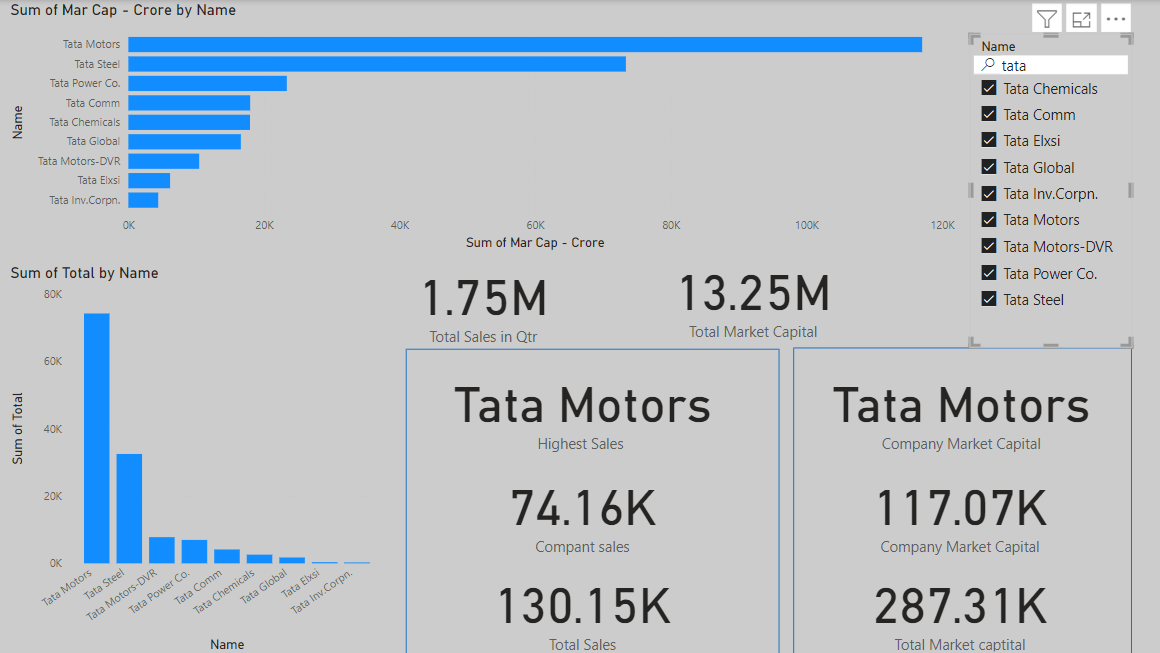

The page's visual inventory and layout, read from the dashboard file:
{"tool":"powerbi","page":{"name":"Page 1","canvas":[1280,720],"ordinal":0},"visuals":[{"type":"shape","box":[874.1,381.5,371.9,338.9],"z":0},{"type":"barChart","fields":{"Category":["Financial Analytics data.Name"],"Y":["Sum(Financial Analytics data.Mar Cap - Crore)"]},"box":[9.6,0,1047,279.9],"z":1000},{"type":"columnChart","fields":{"Category":["Financial Analytics data.Name"],"Y":["Sum(Financial Analytics data.Total)"]},"box":[9.6,289.5,419.9,430.9],"z":2000},{"type":"slicer","fields":{"Values":["Financial Analytics data.Name"]},"box":[1067.6,37,178.4,344.4],"z":3000},{"type":"card","fields":{"Values":["Sum(Financial Analytics data.Mar Cap - Crore)"]},"box":[717.7,269,225,112.5],"z":4000},{"type":"card","fields":{"Values":["Sum(Financial Analytics data.Total)"]},"box":[417.2,279.9,233.3,101.5],"z":5000},{"type":"card","title":"Highest Market Cap","fields":{"Values":["Min(Financial Analytics data.Name)"]},"box":[881,391.1,355.4,113.9],"z":6000,"group":"g1"},{"type":"card","fields":{"Values":["Sum(Financial Analytics data.Mar Cap - Crore)"]},"box":[881,505,352.7,112.5],"z":7000,"group":"g1"},{"type":"card","fields":{"Values":["Sum(Financial Analytics data.Total)"]},"box":[440.5,505,404.8,112.5],"z":8000},{"type":"card","fields":{"Values":["Min(Financial Analytics data.Name)"]},"box":[440.5,392.5,404.8,112.5],"z":9000},{"type":"card","fields":{"Values":["Sum(Financial Analytics data.Mar Cap - Crore)"]},"box":[881,617.5,352.7,102.9],"z":10000,"group":"g1"},{"type":"card","fields":{"Values":["Sum(Financial Analytics data.Total)"]},"box":[440.5,617.5,404.8,102.9],"z":11000},{"type":"shape","box":[448.7,382.4,410.3,337.6],"z":11003},{"type":"group","id":"g1","title":"Group 1","box":[881,391.1,355.4,329.3],"z":11003}]}

Visuals, with their boxes on the page's 1280x720 design canvas (x1, y1, x2, y2). These are canvas units, not pixel positions in the 1160x653 screenshot, which may show the page scaled, cropped or inside an application window:
shape: (left=874, top=382, right=1246, bottom=720)
barChart - Financial Analytics data.Name x Sum(Financial Analytics data.Mar Cap - Crore): (left=10, top=0, right=1057, bottom=280)
columnChart - Financial Analytics data.Name x Sum(Financial Analytics data.Total): (left=10, top=290, right=430, bottom=720)
slicer - Financial Analytics data.Name: (left=1068, top=37, right=1246, bottom=381)
card - Sum(Financial Analytics data.Mar Cap - Crore): (left=718, top=269, right=943, bottom=382)
card - Sum(Financial Analytics data.Total): (left=417, top=280, right=650, bottom=381)
"Highest Market Cap" card: (left=881, top=391, right=1236, bottom=505)
card - Sum(Financial Analytics data.Mar Cap - Crore): (left=881, top=505, right=1234, bottom=618)
card - Sum(Financial Analytics data.Total): (left=440, top=505, right=845, bottom=618)
card - Min(Financial Analytics data.Name): (left=440, top=392, right=845, bottom=505)
card - Sum(Financial Analytics data.Mar Cap - Crore): (left=881, top=618, right=1234, bottom=720)
card - Sum(Financial Analytics data.Total): (left=440, top=618, right=845, bottom=720)
shape: (left=449, top=382, right=859, bottom=720)
"Group 1" group: (left=881, top=391, right=1236, bottom=720)
